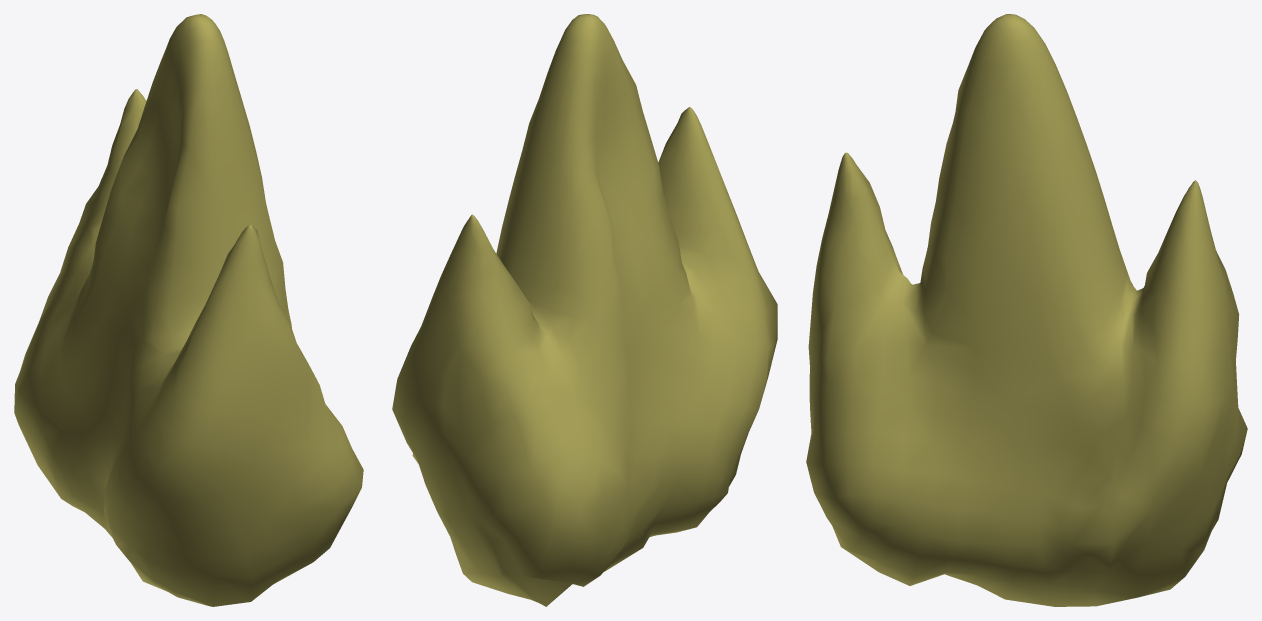
Rendered from crystal_low.fbx.
The picture shows the model from 3 angles, left to right: view 1: azimuth 30°, elevation 25°; view 2: azimuth 150°, elevation 25°; view 3: azimuth 270°, elevation 25°; orthographic projection. The views are drawn at different scales.
Visible parts, largest first — view 1: crystal_low; view 2: crystal_low; view 3: crystal_low.
Part boxes in pixels (box(x1,y1,x2,y2)): crystal_low: box(14, 14, 363, 606); crystal_low: box(392, 14, 777, 606); crystal_low: box(806, 14, 1247, 606).
Size of the model in its own units: 2.44 by 5.06 by 3.58.
